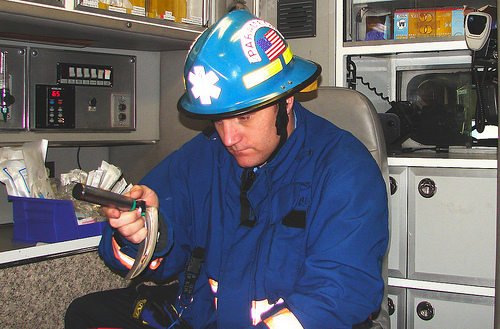helmet: (176, 16, 306, 109)
